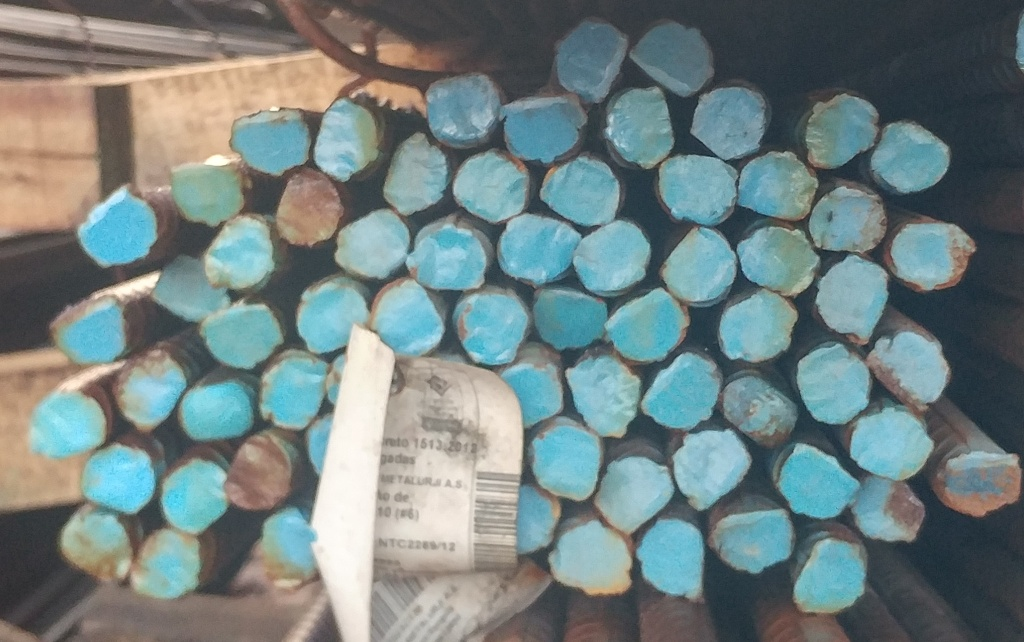dipstick: (63, 183, 158, 269), (797, 74, 879, 170), (628, 12, 715, 99), (734, 214, 820, 297), (538, 146, 624, 228), (887, 221, 977, 299), (866, 113, 952, 194), (657, 224, 740, 307), (669, 430, 754, 511), (500, 91, 589, 168), (771, 444, 861, 520), (815, 254, 890, 345), (716, 367, 799, 448), (549, 19, 628, 103), (220, 430, 299, 514), (868, 334, 952, 413), (227, 99, 313, 176), (110, 348, 187, 434), (567, 350, 641, 439), (796, 340, 871, 427), (602, 81, 675, 170), (451, 146, 534, 224), (652, 152, 738, 227), (29, 378, 109, 458), (573, 216, 654, 295), (294, 272, 372, 354), (686, 82, 770, 158), (56, 507, 132, 590), (715, 291, 800, 365), (548, 523, 633, 597), (495, 213, 581, 286), (452, 288, 532, 366), (605, 289, 689, 363), (710, 507, 796, 579), (644, 353, 722, 432), (424, 64, 499, 146), (408, 217, 491, 291), (596, 458, 675, 535), (47, 291, 128, 366), (853, 407, 936, 480), (528, 420, 601, 503), (379, 131, 450, 216), (150, 254, 232, 326), (791, 538, 867, 615), (314, 95, 382, 181), (740, 148, 818, 221), (257, 350, 328, 430), (806, 185, 887, 255), (203, 217, 278, 292), (167, 155, 244, 228), (200, 302, 286, 367), (941, 450, 1022, 519), (334, 208, 410, 281), (158, 455, 228, 534), (81, 442, 157, 514), (277, 166, 343, 248), (252, 513, 318, 591), (852, 475, 926, 544), (532, 287, 608, 352), (132, 526, 197, 597), (177, 379, 251, 441), (493, 365, 565, 428), (514, 485, 563, 552)
